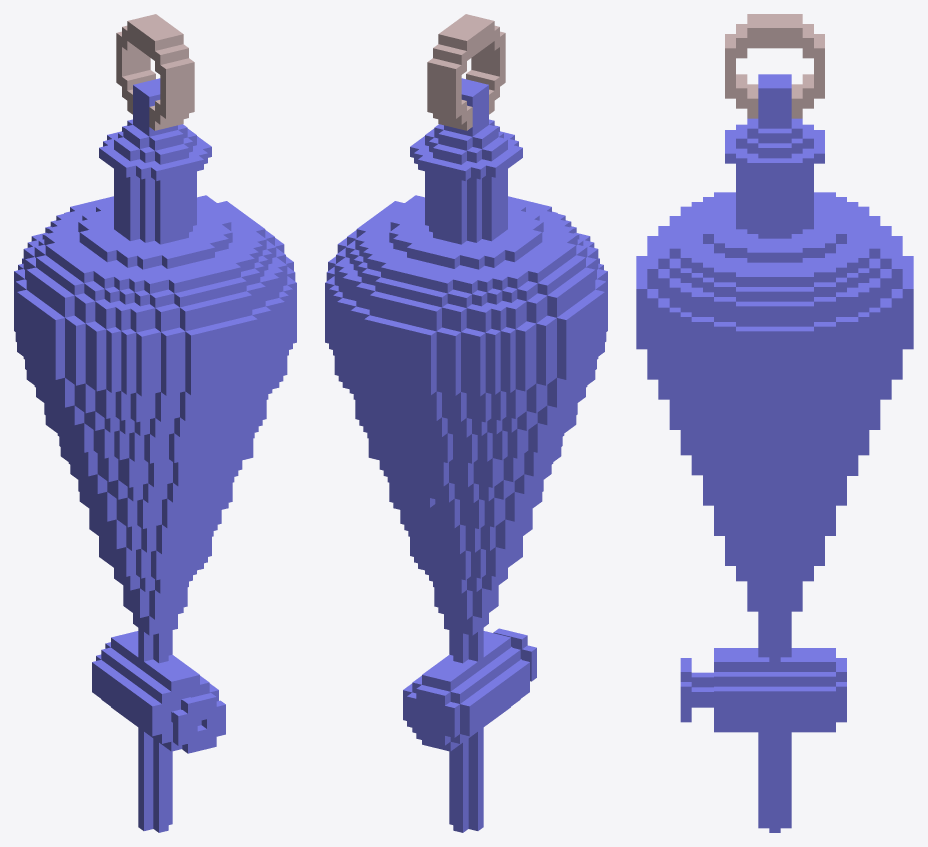
Rendered from Flask8-3-1.fbx.
3 views of the same model, side by side, from view 1: azimuth 30°, elevation 25°; view 2: azimuth 150°, elevation 25°; view 3: azimuth 270°, elevation 25° (orthographic).
Visible parts, largest first — view 1: Flask8-3-1.001, Flask8-3-1.002, Flask8-3-1.003, Flask8-3-1.004; view 2: Flask8-3-1.001, Flask8-3-1.002, Flask8-3-1.003, Flask8-3-1.004; view 3: Flask8-3-1.001, Flask8-3-1.002, Flask8-3-1.003, Flask8-3-1.004.
Part boxes in pixels (<box>): Flask8-3-1.001: <box>14,14,296,366</box>; Flask8-3-1.002: <box>14,301,296,663</box>; Flask8-3-1.003: <box>97,636,225,832</box>; Flask8-3-1.004: <box>92,631,138,710</box>; Flask8-3-1.001: <box>325,14,607,366</box>; Flask8-3-1.002: <box>325,301,607,663</box>; Flask8-3-1.003: <box>409,628,536,832</box>; Flask8-3-1.004: <box>403,671,474,751</box>; Flask8-3-1.001: <box>636,14,913,361</box>; Flask8-3-1.002: <box>636,319,913,661</box>; Flask8-3-1.003: <box>680,648,824,832</box>; Flask8-3-1.004: <box>825,648,846,732</box>.
Size of the model in its own units: 2.5 by 8 by 2.5.
